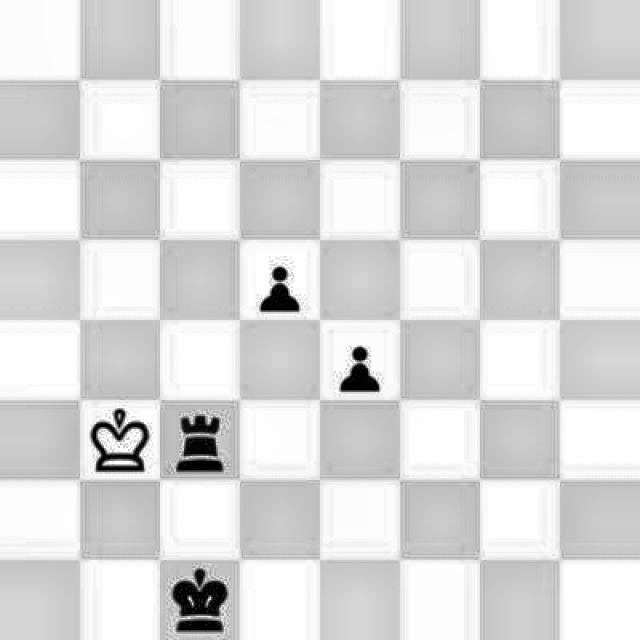black king: (160, 562, 238, 638)
black pawn: (242, 238, 320, 318), (323, 333, 397, 396)
black rook: (170, 398, 233, 476)
white king: (80, 403, 160, 473)
